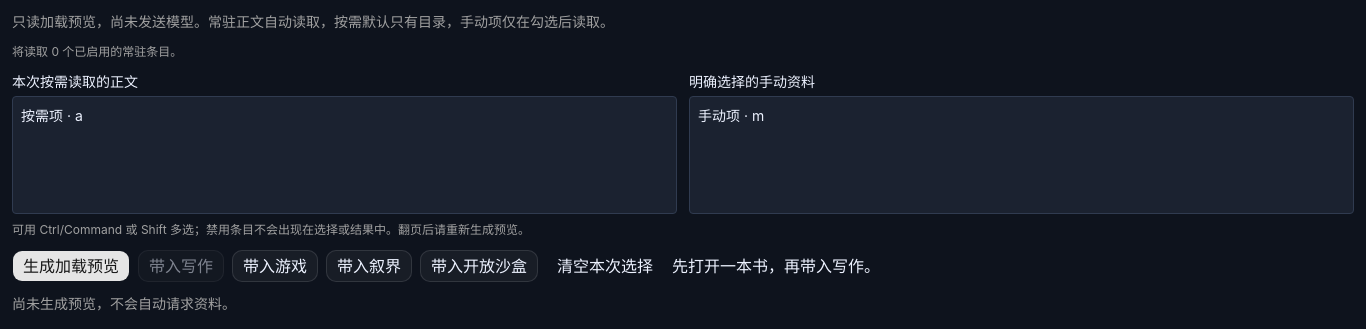
library load preview › shows failures without claiming content was loaded
Click the button "生成加载预览": {"x": 71, "y": 266} [12,250,130,282]
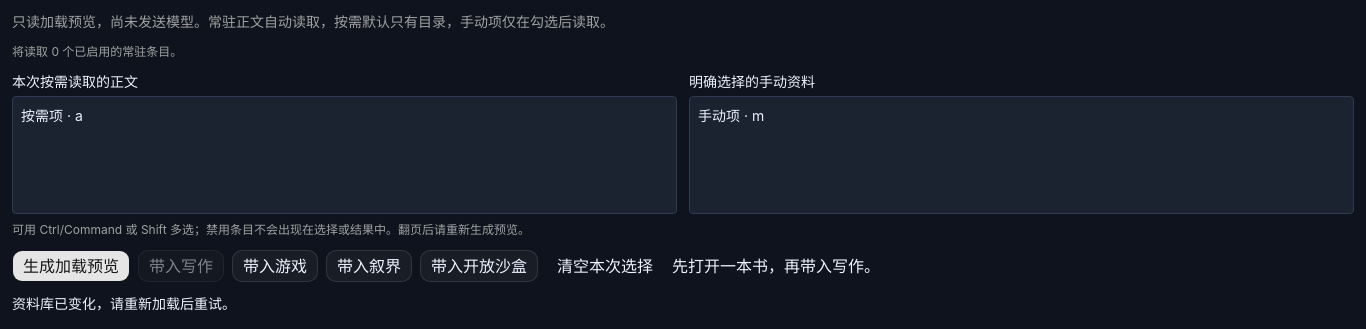
Expected: the message "资料库已变化，请重新加载后重试。" is shown, [12,295,236,312]
